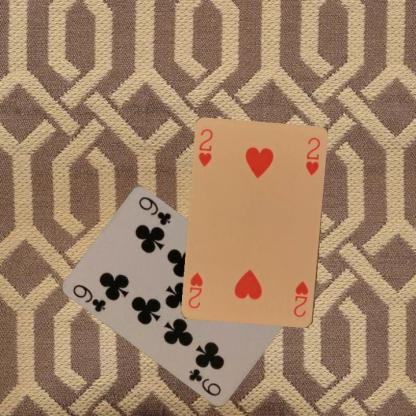2h: (291, 279, 310, 319), (196, 127, 214, 168)
9c: (71, 282, 108, 315)
